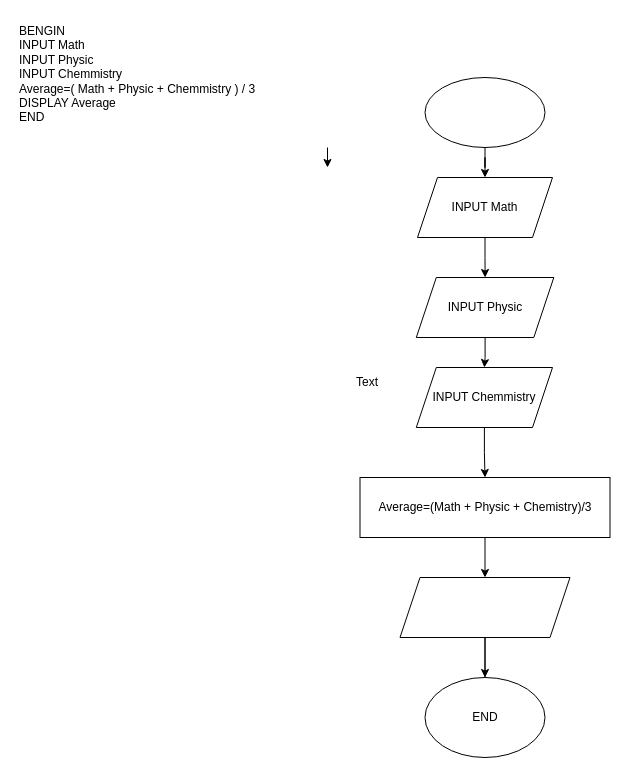
This 627x775 diagram has some shape labels left out. The shapes that lost their labels are listed below. From the top down, each one's centre as x and y in pixels, then its label:
point (484, 112): BEGIN
point (484, 607): DISPLAY Average
